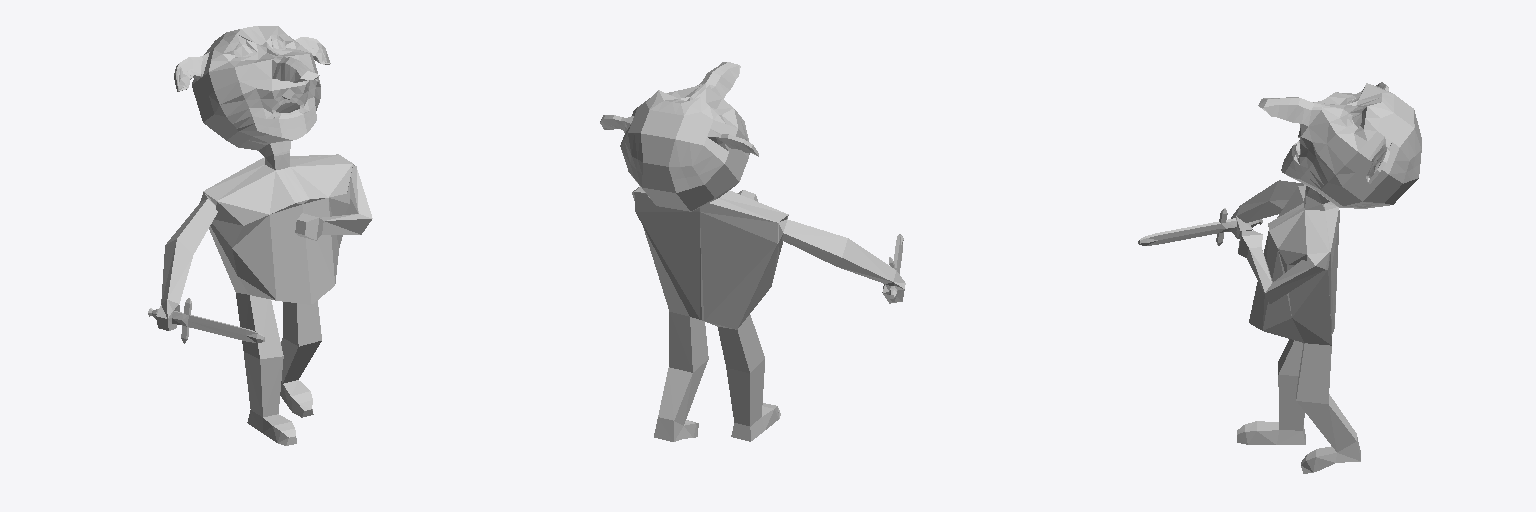
File: andrzejDying_000036.obj
3 views of the same model, side by side, from view 1: azimuth 30°, elevation 25°; view 2: azimuth 150°, elevation 25°; view 3: azimuth 270°, elevation 25° (orthographic).
Parts seen in each view (by area): view 1: Cube; view 2: Cube; view 3: Cube.
Boxes of the visible parts, x1=… form: Cube: x1=148, y1=26, x2=372, y2=445; Cube: x1=600, y1=62, x2=905, y2=441; Cube: x1=1138, y1=82, x2=1421, y2=473.
Size of the model in its own units: 6.24 by 9.29 by 6.46.